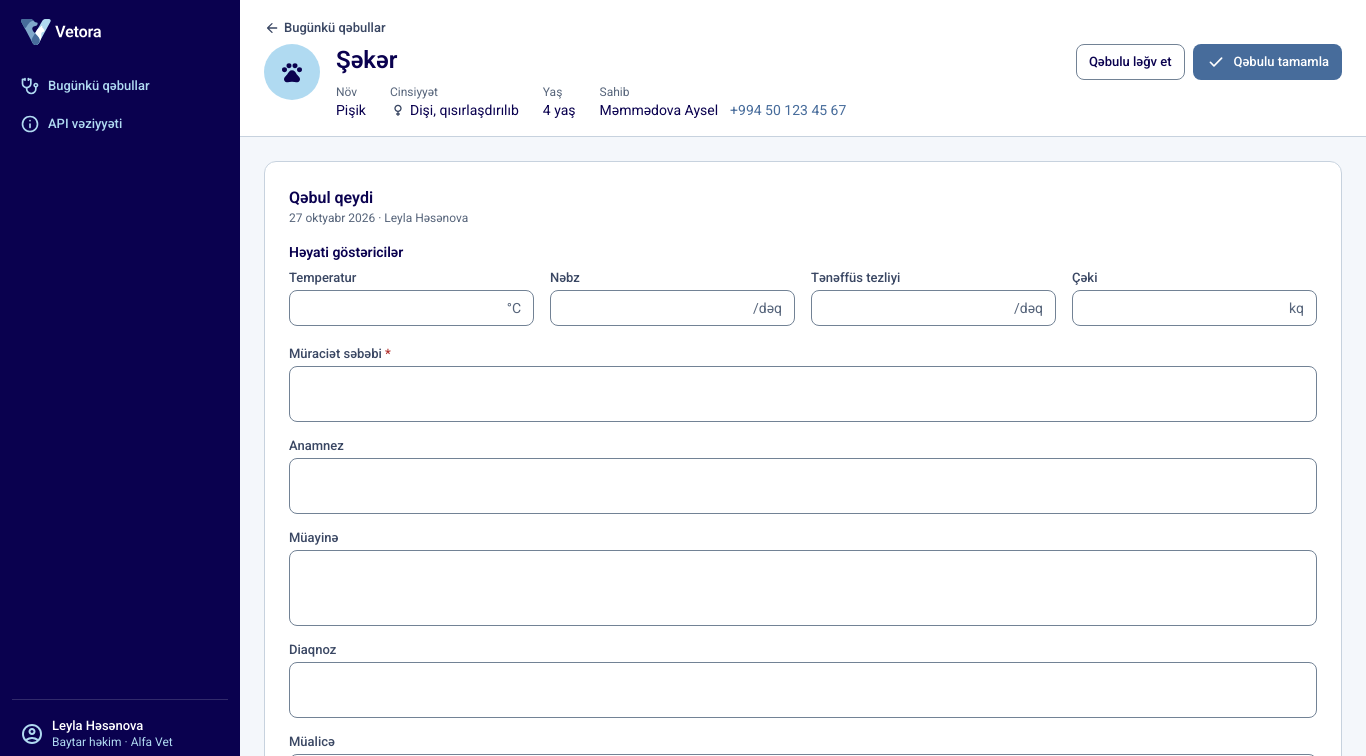
Test: the draft note survives a dropped connection (#24, seam 3) › the line says the text is kept as soon as the browser loses the connection, before a save finds out
Expected: the heading "Şəkər" is shown, [336,44,397,76]
Type "Limping" into the text box labelled "Müraciət səbəbi" at (803,394), box [290,367,1316,421]
Wait 4000 ms
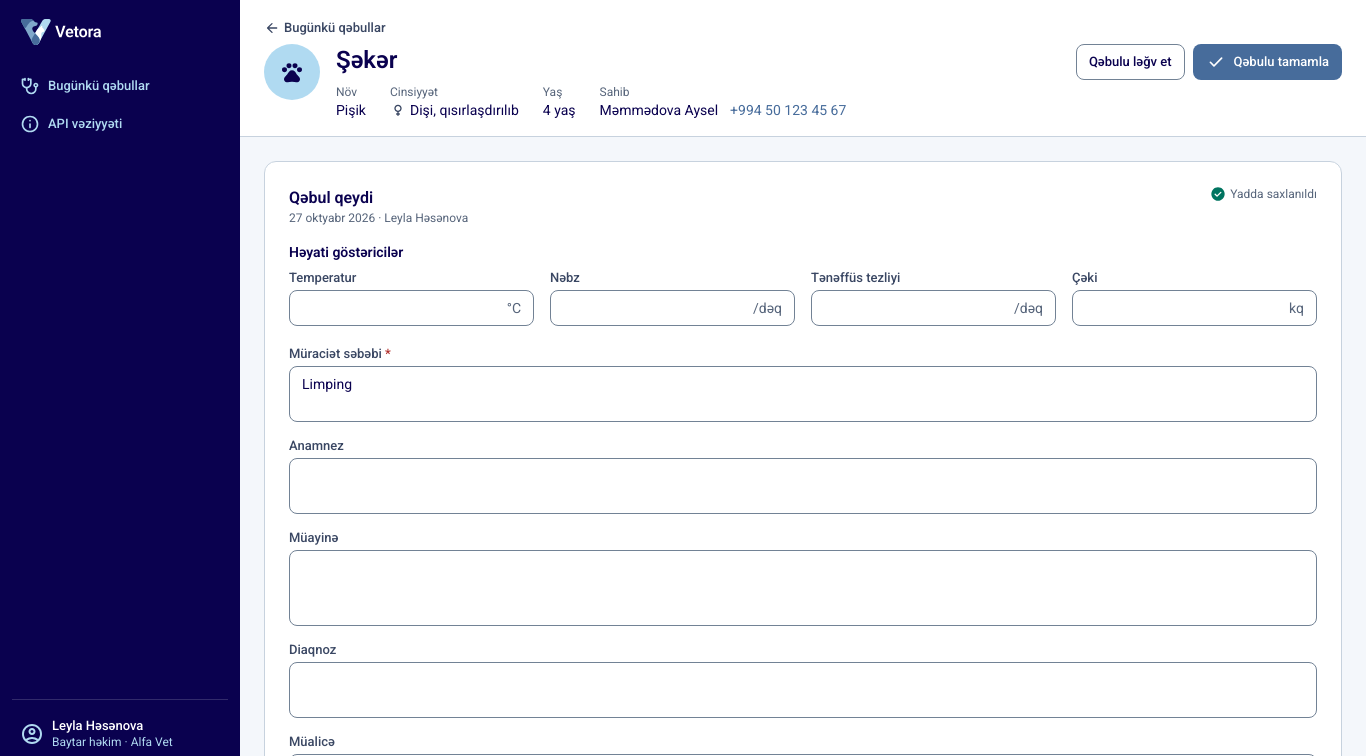
Result: the text "Yadda saxlanıldı" is shown at [1230,186,1317,202]
Replace the text in the text box labelled "Müraciət səbəbi" with "Limping, left fore" at (803,394), box [290,367,1316,421]
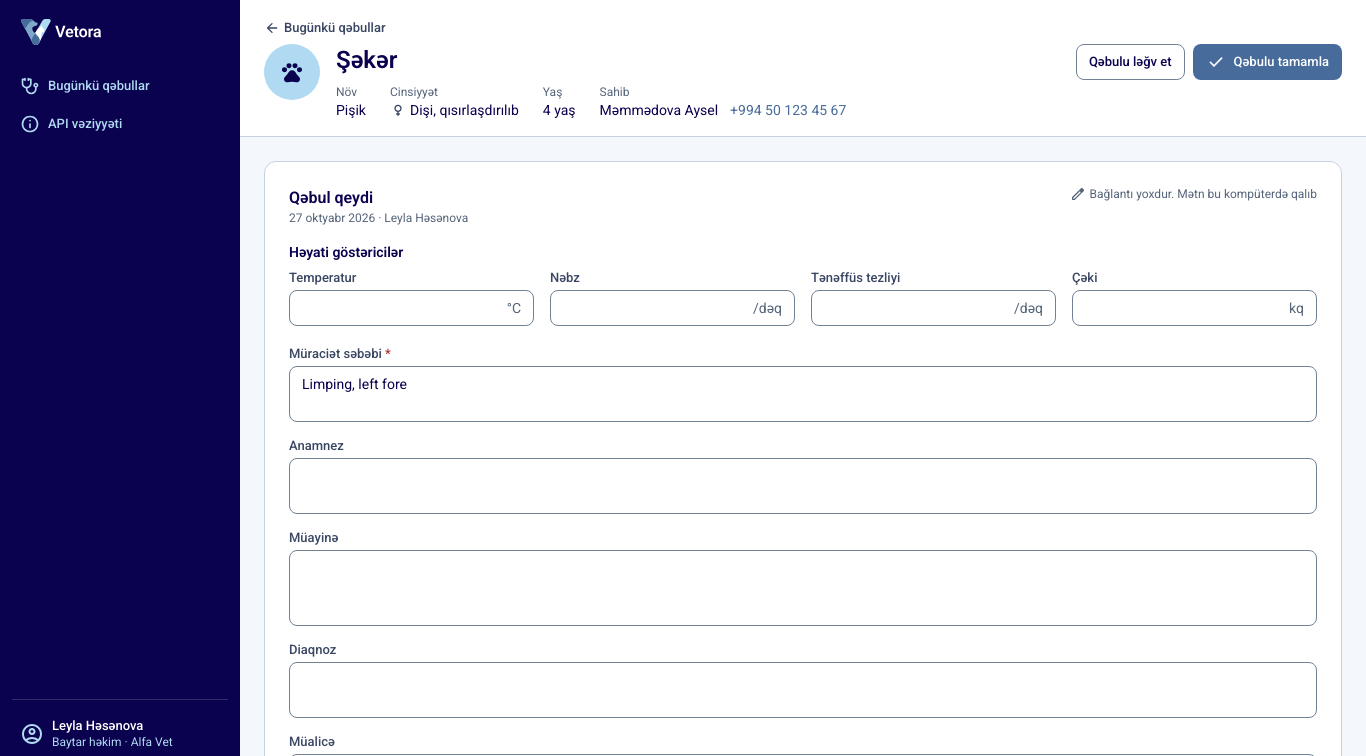
Result: the text "Bağlantı yoxdur. Mətn bu kompüterdə qalıb" is shown at [1090,186,1317,202]
Type "Quiet" into the text box labelled "Müayinə" at (803,588), box [290,551,1316,625]
Wait 30000 ms
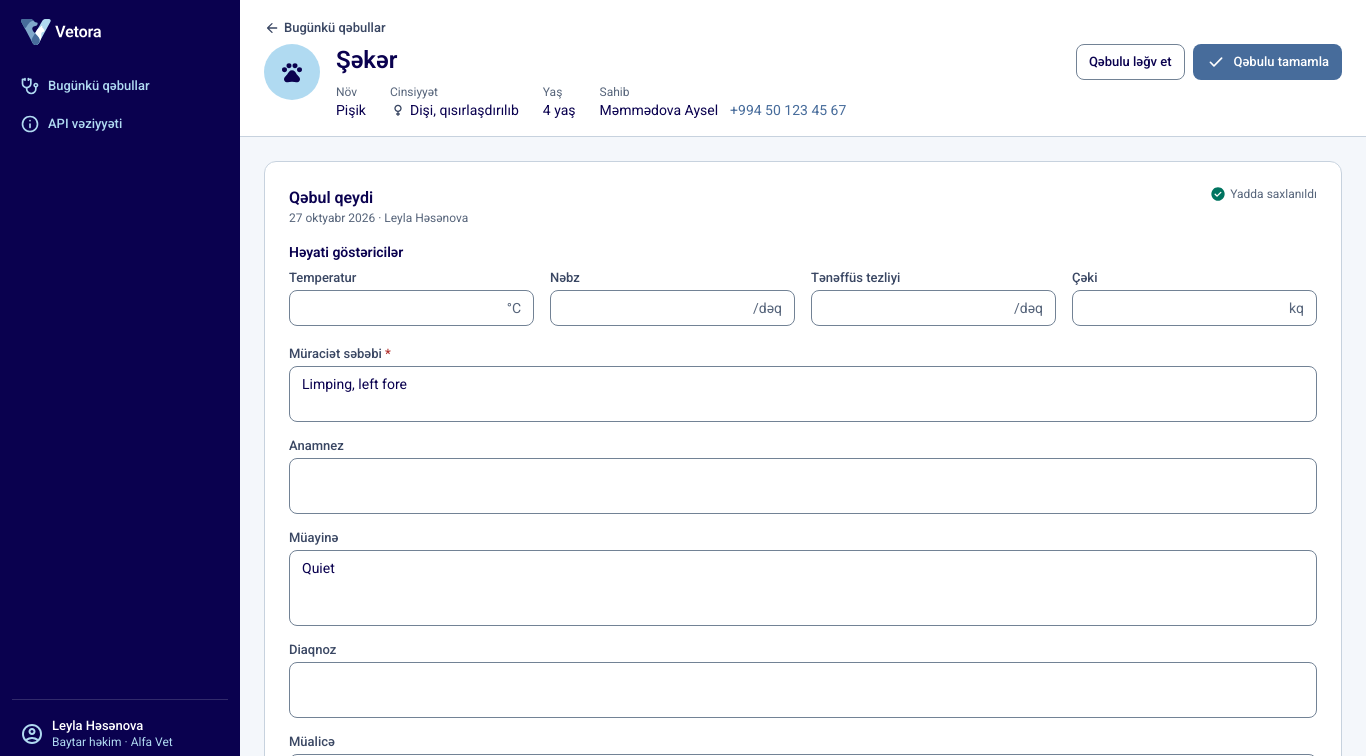
Result: the text "Bağlantı yoxdur. Mətn bu kompüterdə qalıb" is gone
Result: the text "Yadda saxlanıldı" is shown at [1230,186,1317,202]
